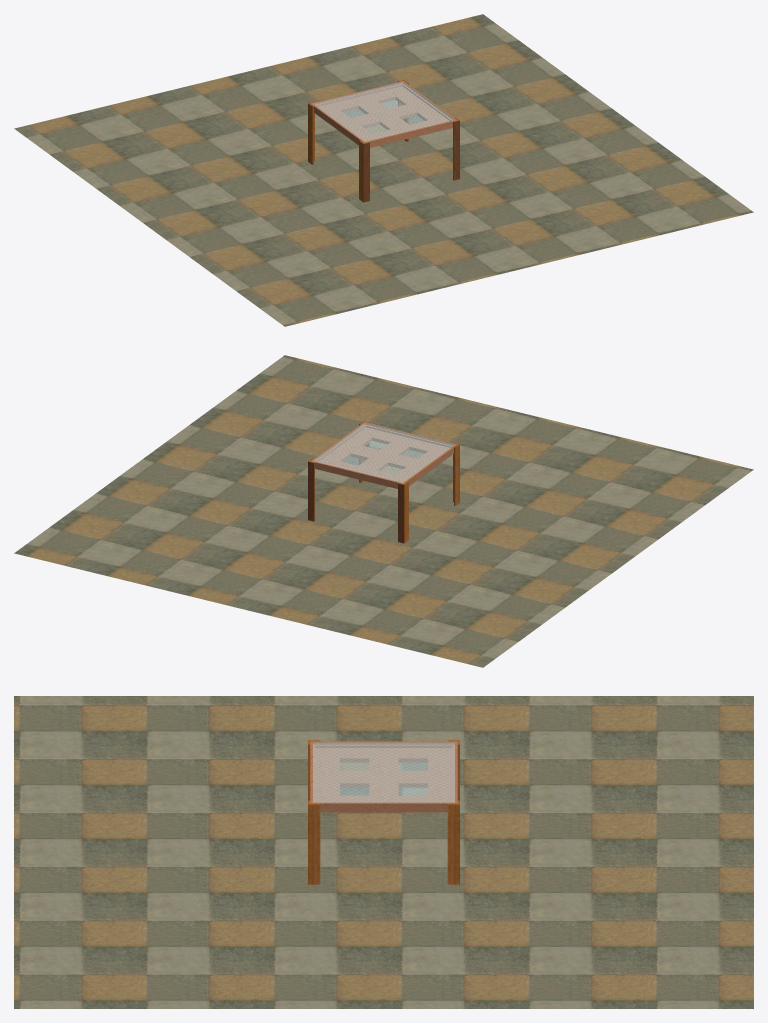
Rendered from table_with_glass.glb.
The picture shows the model from 3 angles, top to bottom: view 1: azimuth 30°, elevation 25°; view 2: azimuth 150°, elevation 25°; view 3: azimuth 270°, elevation 25°; orthographic projection. The views are drawn at different scales.
Parts seen in each view (by area): view 1: Material3 (×2), Material2 (×3); view 2: Material3 (×2), Material2 (×3); view 3: Material3 (×2), Material2 (×2).
Boxes of the visible parts, box(x1,y1,x2,y2) form: Material3 (×2): box(14, 14, 753, 326); Material2 (×3): box(308, 80, 459, 202); Material3 (×2): box(14, 355, 753, 667); Material2 (×3): box(308, 421, 459, 543); Material3 (×2): box(14, 696, 753, 1008); Material2 (×2): box(308, 740, 459, 884).
Size of the model in its own units: 151 by 18 by 151.
Materials: 7 (6 with a texture image).
